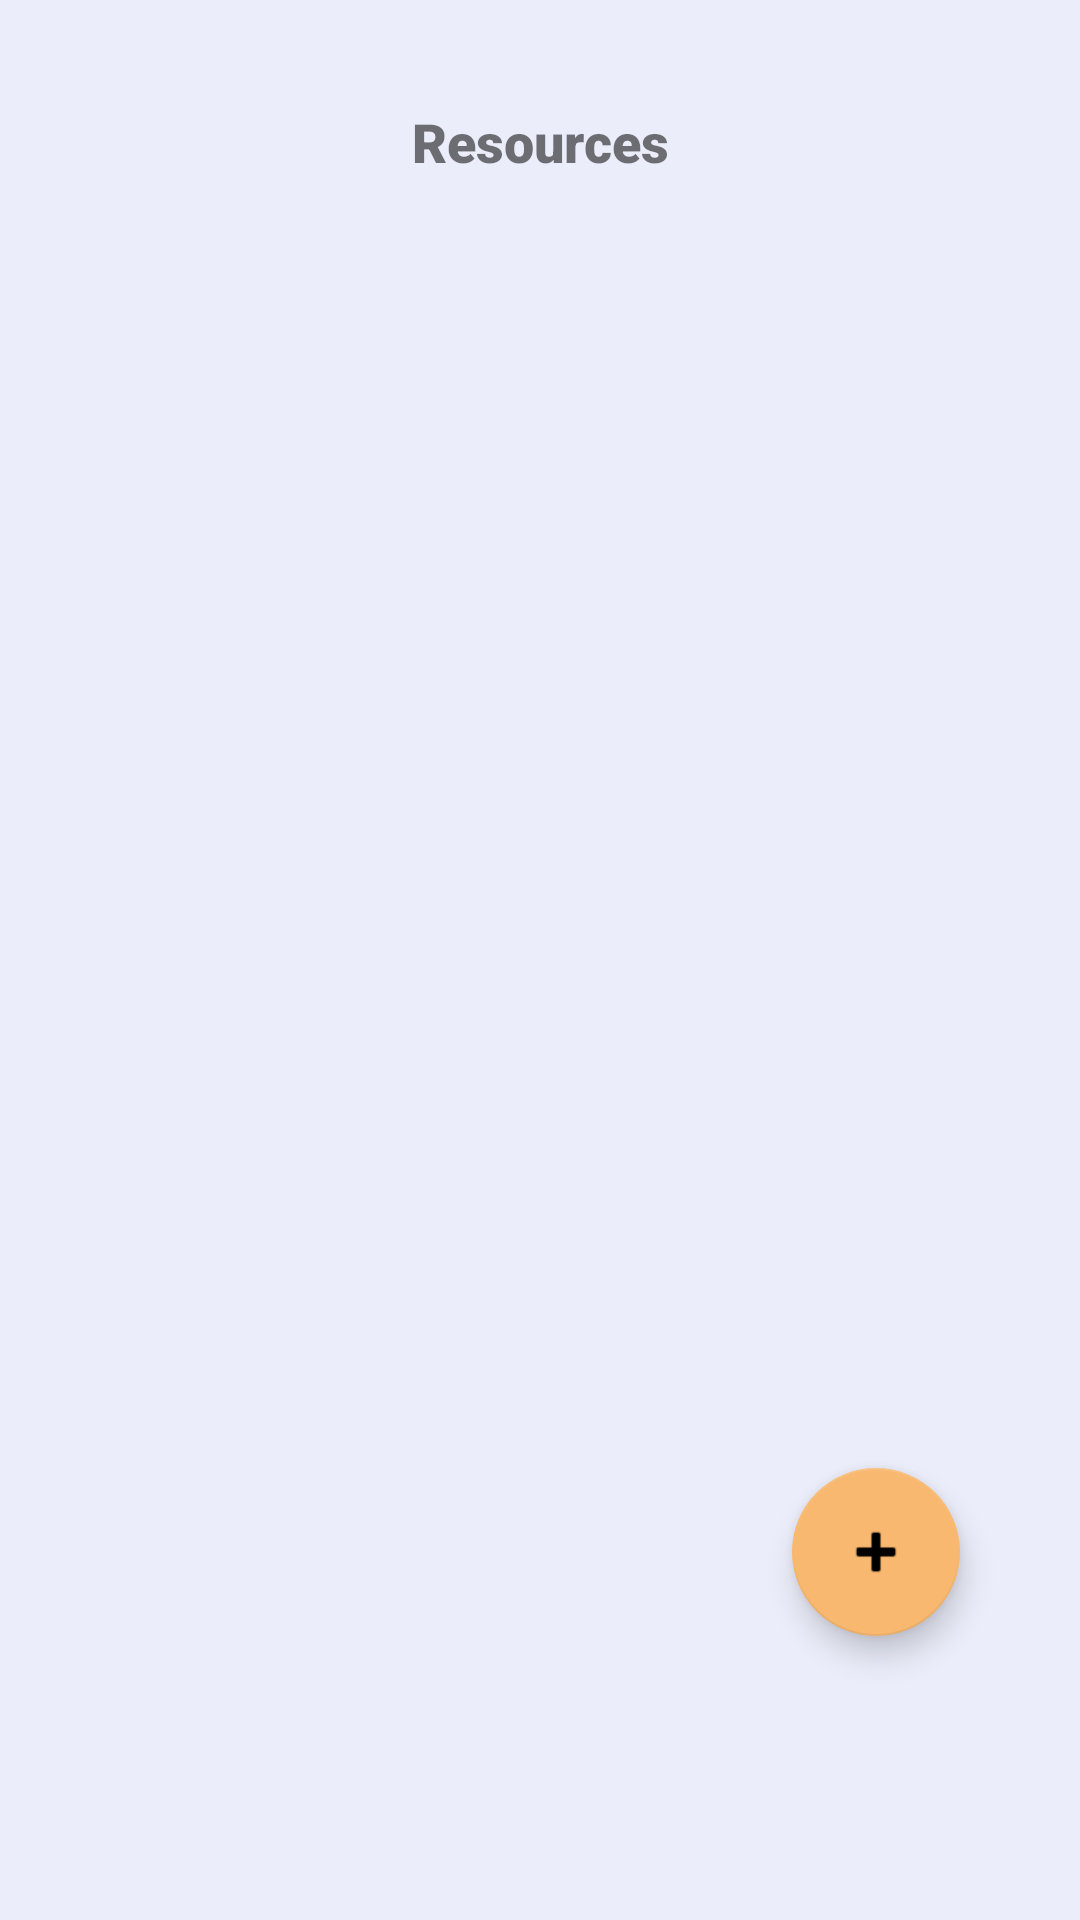

Screen size 1080x1920. Icon name, then its center in pixels as point (x, y):
add: point (876, 1552)
